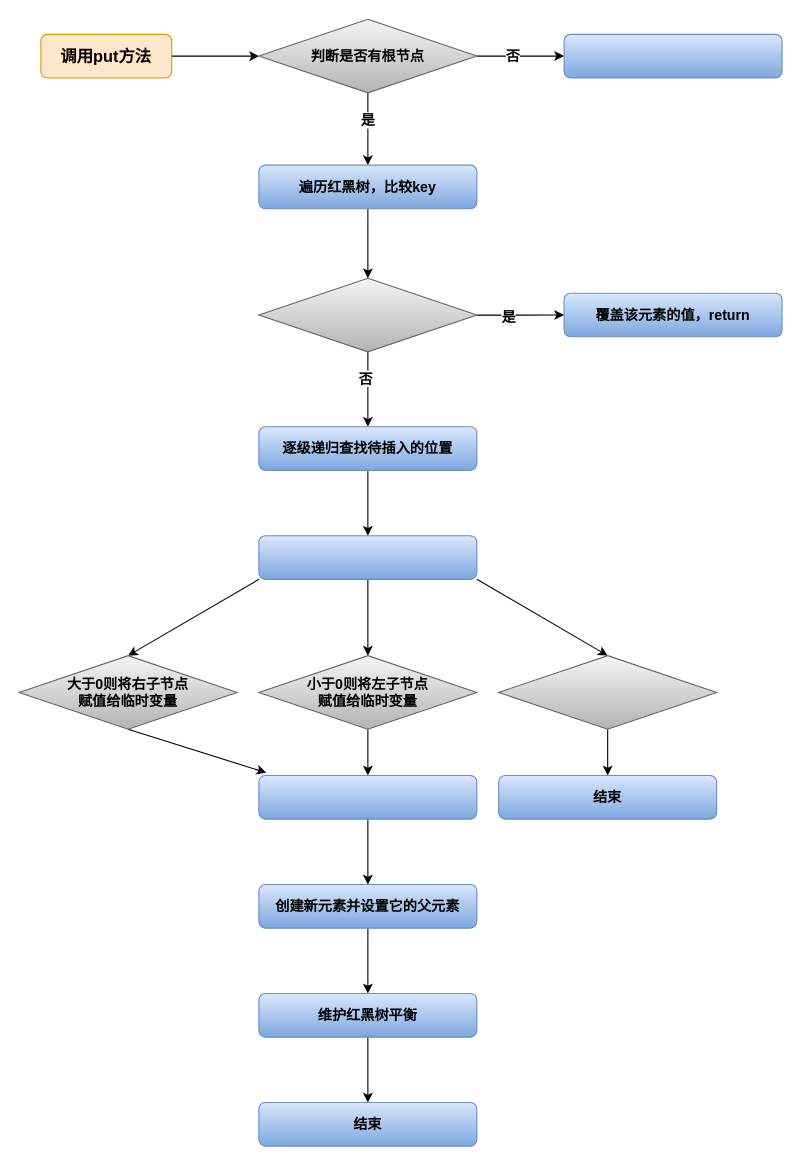
Some shapes in this 801 by 1165 pixel diagram are drawn without their labels. The shapes that lost their labels are listed below. From the top down, each one's centre as x and y in pixels, then its label:
pixel 672 55: 初始化root节点
pixel 367 314: 是否有相同的key
pixel 367 557: 递归过程中，比较key 得出结果
pixel 607 692: 等于0则覆盖该元素的值
pixel 367 796: 继续逐级递归 循环到叶子节点为止
